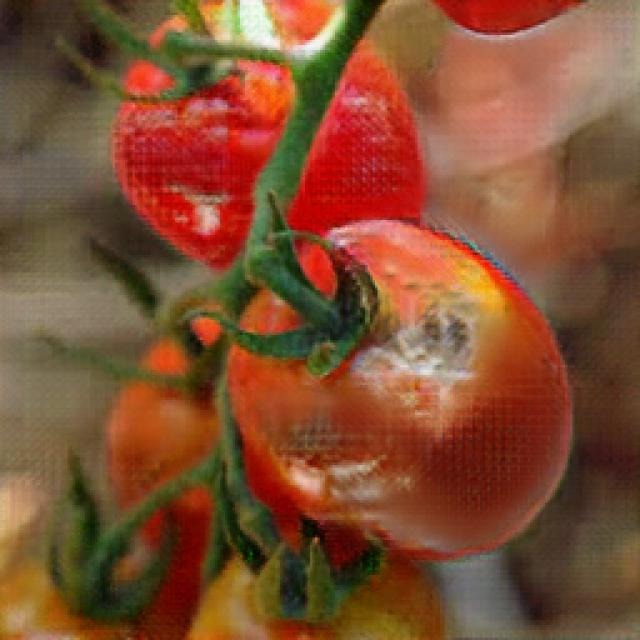overripe tomato: (223, 216, 576, 566), (114, 5, 430, 258)
